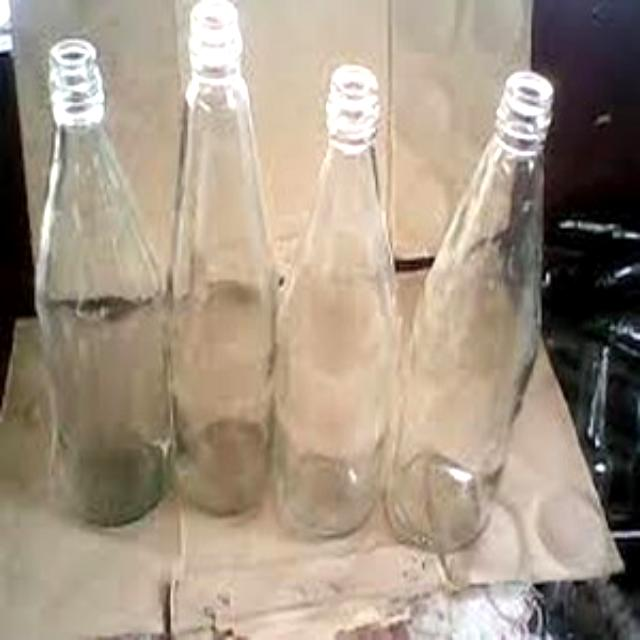Glass: (391, 66, 559, 546), (34, 41, 164, 530), (173, 0, 286, 508), (286, 64, 389, 538)
